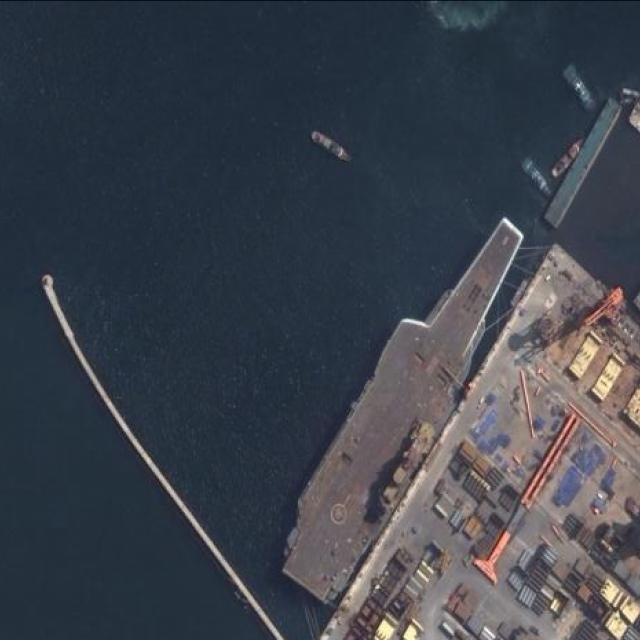Aircraft Carrier: (255, 195, 552, 611)
Other Ship: (561, 63, 601, 112), (546, 134, 586, 182), (515, 153, 555, 201), (307, 126, 355, 166)
